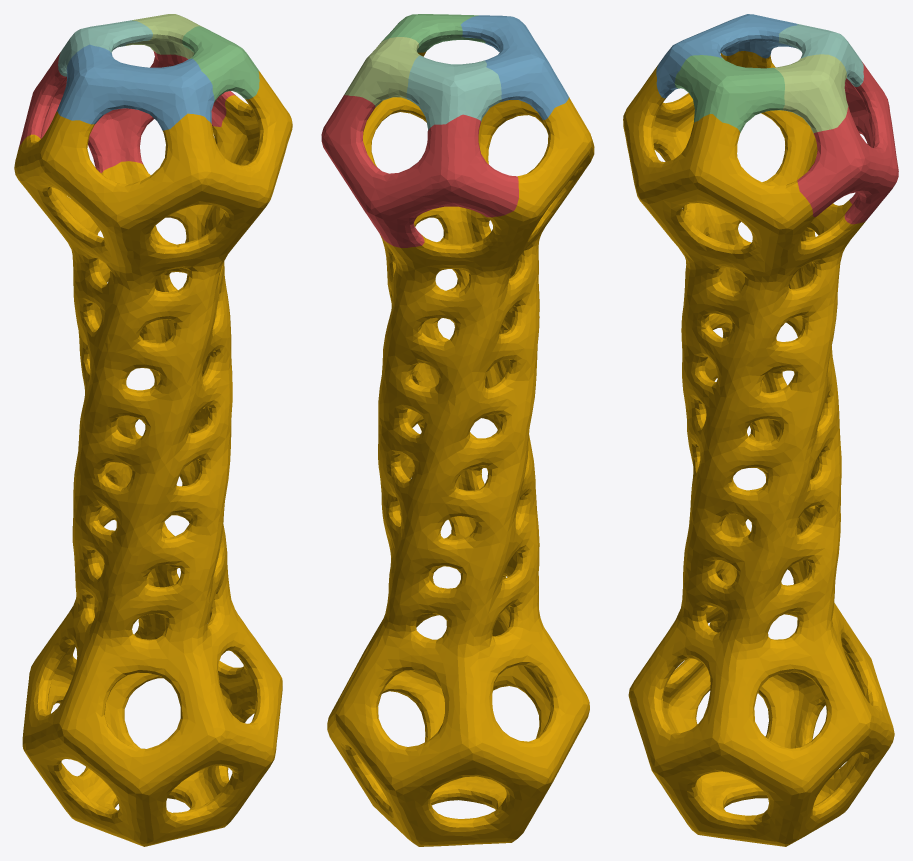
The model's file is fractured_61_6pcs.glb.
3 views of the same model, side by side, from view 1: azimuth 30°, elevation 25°; view 2: azimuth 150°, elevation 25°; view 3: azimuth 270°, elevation 25° (orthographic).
Visible parts, largest first — view 1: piece_0.obj, piece_2.obj, piece_1.obj, piece_3.obj, piece_4.obj, piece_5.obj; view 2: piece_0.obj, piece_1.obj, piece_2.obj, piece_4.obj, piece_5.obj, piece_3.obj; view 3: piece_0.obj, piece_1.obj, piece_3.obj, piece_2.obj, piece_5.obj, piece_4.obj.
Boxes of the visible parts, <box> form: piece_0.obj: <box>14,71,292,846</box>; piece_2.obj: <box>56,44,214,130</box>; piece_1.obj: <box>18,51,235,173</box>; piece_3.obj: <box>182,26,259,102</box>; piece_4.obj: <box>58,20,152,76</box>; piece_5.obj: <box>126,14,203,59</box>; piece_0.obj: <box>327,51,594,846</box>; piece_1.obj: <box>321,95,518,247</box>; piece_2.obj: <box>461,15,568,119</box>; piece_4.obj: <box>406,55,501,131</box>; piece_5.obj: <box>344,37,419,106</box>; piece_3.obj: <box>380,14,485,52</box>; piece_0.obj: <box>623,51,894,846</box>; piece_1.obj: <box>797,62,898,224</box>; piece_3.obj: <box>674,55,784,132</box>; piece_2.obj: <box>656,14,797,98</box>; piece_5.obj: <box>773,54,848,133</box>; piece_4.obj: <box>778,24,863,86</box>.
Size of the model in its own units: 0.3256 by 1 by 0.3253.
